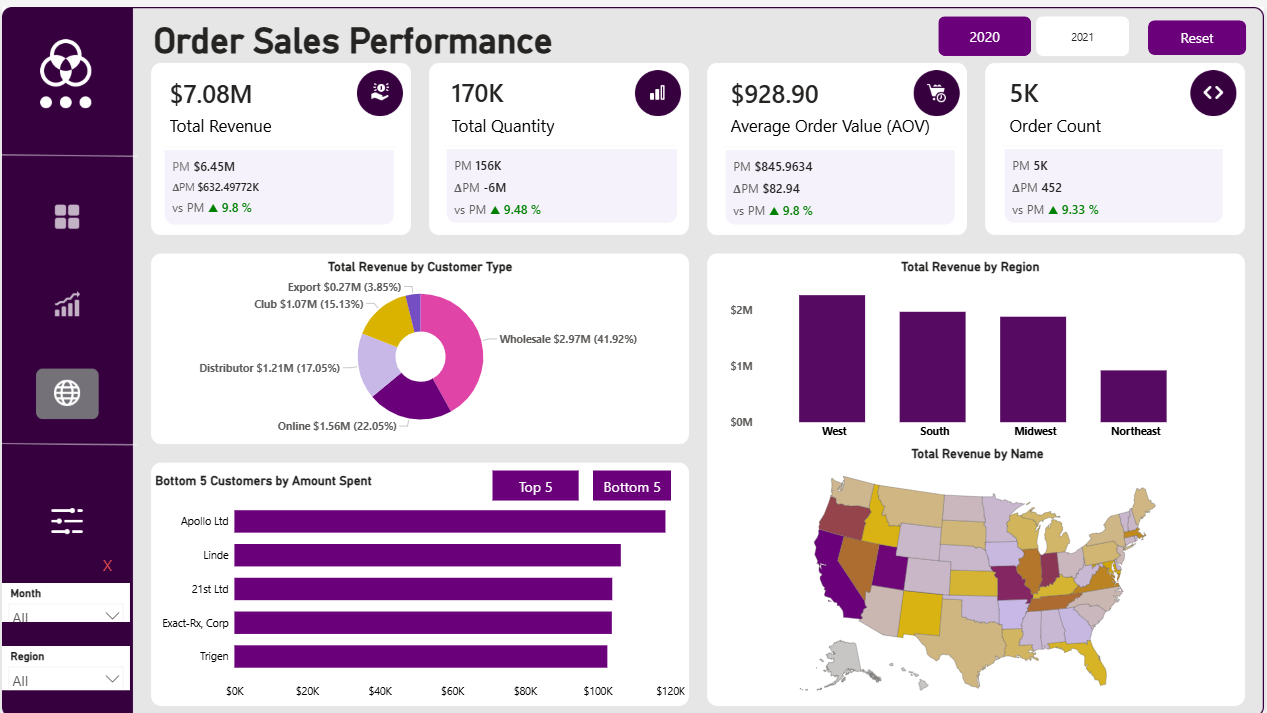

This screenshot's page, from the dashboard's own definition file:
{"tool":"powerbi","page":{"name":"Customer & Regional Analysis","canvas":[1920,1080],"ordinal":2},"visuals":[{"type":"donutChart","fields":{"Category":["Customers_DIM.Customer Type"],"Y":["Calculated Measures.Total Revenue"]},"box":[226.7,384.1,820.8,274.4],"z":0},{"type":"actionButton","box":[33.5,527.2,149.3,115.8],"z":0,"group":"g1"},{"type":"slicer","fields":{"Values":["Date.Month"]},"box":[0,876.7,194.4,59.5],"z":0,"group":"g2"},{"type":"clusteredColumnChart","fields":{"Category":["Region.Region"],"Y":["Calculated Measures.Total Revenue"]},"box":[1102.3,384.1,742,283.9],"z":1000},{"type":"actionButton","box":[48.7,728.4,100.6,91.4],"z":1000,"group":"g1"},{"type":"slicer","fields":{"Values":["Region.Region"]},"box":[0,971.9,194.4,67.4],"z":1000,"group":"g2"},{"type":"actionButton","box":[25.7,384.7,154.7,107.1],"z":2000,"group":"g1"},{"type":"shapeMap","fields":{"Category":["Region.Name"],"Value":["Calculated Measures.Total Revenue"]},"box":[1047.4,668.1,873.2,393.7],"z":2000},{"type":"cardVisual","fields":{"Data":["Calculated Measures.Total Revenue"]},"box":[226.7,74,391.3,279.2],"z":3000},{"type":"actionButton","box":[27.4,262.1,149.3,91.4],"z":3000,"group":"g1"},{"type":"cardVisual","fields":{"Data":["Calculated Measures.Total Quantity"]},"box":[653.7,74,393.7,276.8],"z":4000},{"type":"cardVisual","fields":{"Data":["Calculated Measures.Order Count"]},"box":[1503.1,74,374.6,276.8],"z":5000},{"type":"cardVisual","fields":{"Data":["Calculated Measures.Average Order Value (AOV)"]},"box":[1078.4,74,391.3,279.2],"z":6000},{"type":"advancedSlicerVisual","fields":{"Values":["Date.Year"]},"box":[1420,10,300,70],"z":7000},{"type":"clusteredBarChart","title":"Bottom 5 Customers by Amount Spent","fields":{"Category":["Customers_DIM.CustomerName"],"Y":["Calculated Measures.Total Revenue"]},"box":[227.5,710,815,352.5],"z":9000},{"type":"actionButton","box":[899,704,118.9,45.7],"z":10000},{"type":"actionButton","title":"Top","box":[746.7,704,131,45.7],"z":11000},{"type":"group","id":"g1","title":"Group 1","box":[25.7,262.1,157.1,557.7],"z":12000},{"type":"actionButton","title":"Reset","box":[1743.2,0,149.3,73.1],"z":13000},{"type":"textbox","title":"Order Sales Performance","box":[225.5,0,704,91.4],"z":14000},{"type":"actionButton","title":"X close Customer","box":[125,820,70,57.5],"z":15000},{"type":"group","id":"g2","title":"Slicer Customer","box":[0,876.7,194.4,162.6],"z":16000}]}

Visuals, with their boxes on the page's 1920x1080 design canvas (x1, y1, x2, y2). These are canvas units, not pixel positions in the 1267x713 screenshot, which may show the page scaled, cropped or inside an application window:
donutChart - Customers_DIM.Customer Type x Calculated Measures.Total Revenue: {"left": 227, "top": 384, "right": 1048, "bottom": 658}
actionButton: {"left": 34, "top": 527, "right": 183, "bottom": 643}
slicer - Date.Month: {"left": 0, "top": 877, "right": 194, "bottom": 936}
clusteredColumnChart - Region.Region x Calculated Measures.Total Revenue: {"left": 1102, "top": 384, "right": 1844, "bottom": 668}
actionButton: {"left": 49, "top": 728, "right": 149, "bottom": 820}
slicer - Region.Region: {"left": 0, "top": 972, "right": 194, "bottom": 1039}
actionButton: {"left": 26, "top": 385, "right": 180, "bottom": 492}
shapeMap - Region.Name x Calculated Measures.Total Revenue: {"left": 1047, "top": 668, "right": 1921, "bottom": 1062}
cardVisual - Calculated Measures.Total Revenue: {"left": 227, "top": 74, "right": 618, "bottom": 353}
actionButton: {"left": 27, "top": 262, "right": 177, "bottom": 354}
cardVisual - Calculated Measures.Total Quantity: {"left": 654, "top": 74, "right": 1047, "bottom": 351}
cardVisual - Calculated Measures.Order Count: {"left": 1503, "top": 74, "right": 1878, "bottom": 351}
cardVisual - Calculated Measures.Average Order Value (AOV): {"left": 1078, "top": 74, "right": 1470, "bottom": 353}
advancedSlicerVisual - Date.Year: {"left": 1420, "top": 10, "right": 1720, "bottom": 80}
"Bottom 5 Customers by Amount Spent" clusteredBarChart: {"left": 228, "top": 710, "right": 1042, "bottom": 1062}
actionButton: {"left": 899, "top": 704, "right": 1018, "bottom": 750}
"Top" actionButton: {"left": 747, "top": 704, "right": 878, "bottom": 750}
"Group 1" group: {"left": 26, "top": 262, "right": 183, "bottom": 820}
"Reset" actionButton: {"left": 1743, "top": 0, "right": 1892, "bottom": 73}
"Order Sales Performance" textbox: {"left": 226, "top": 0, "right": 930, "bottom": 91}
"X close Customer" actionButton: {"left": 125, "top": 820, "right": 195, "bottom": 878}
"Slicer Customer" group: {"left": 0, "top": 877, "right": 194, "bottom": 1039}
